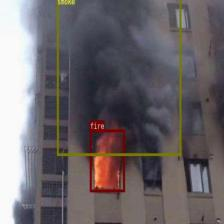fire: (90, 129, 124, 192)
smoke: (56, 0, 180, 155)
